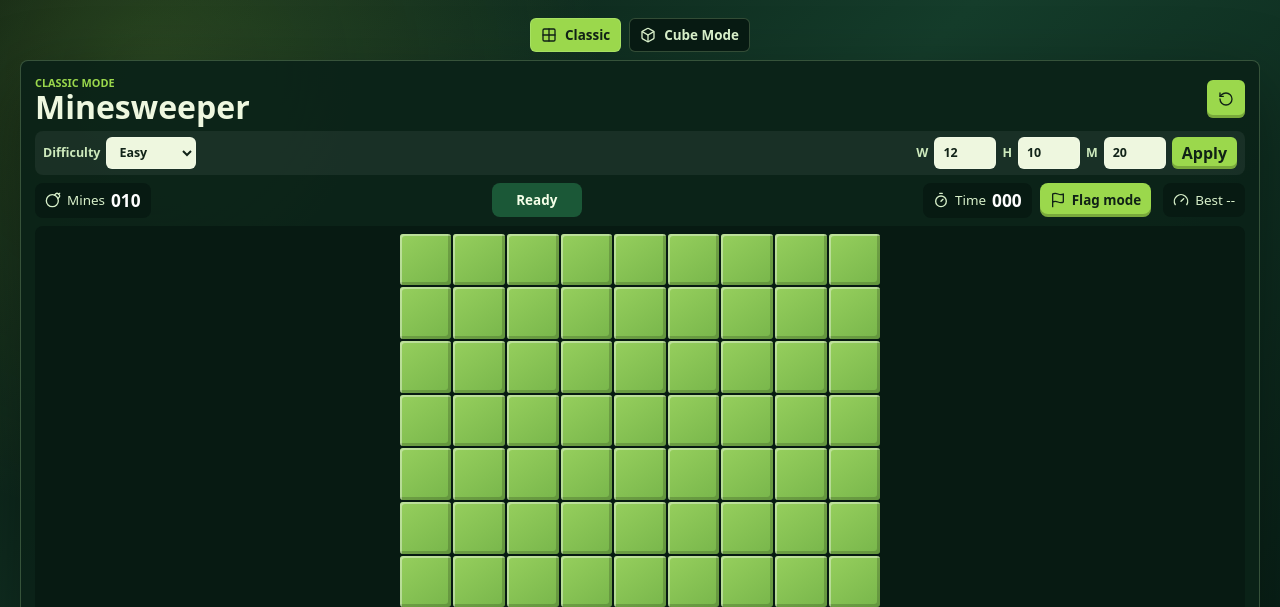
Scenario: Minesweeper app › changes to expert difficulty and creates a 480-cell board
Step 1. Select "Expert" in the dropdown labelled "Difficulty" → (151, 153), box [106, 137, 196, 169]
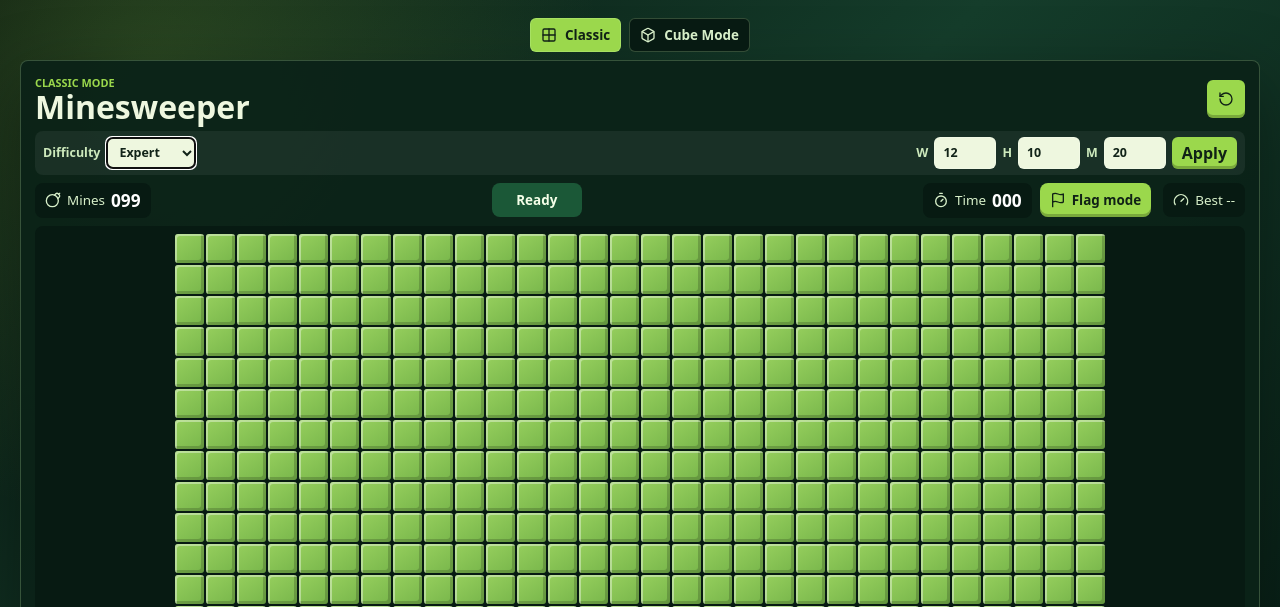
Check: the number of cells named "covered cell" is 480
Check: the text "099" is shown, box [111, 189, 141, 212]
